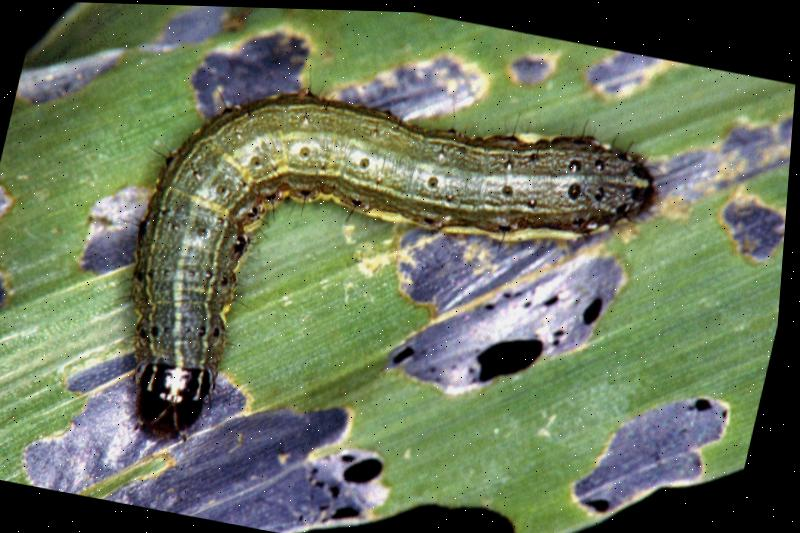fall-armyworm: (137, 90, 663, 441)
